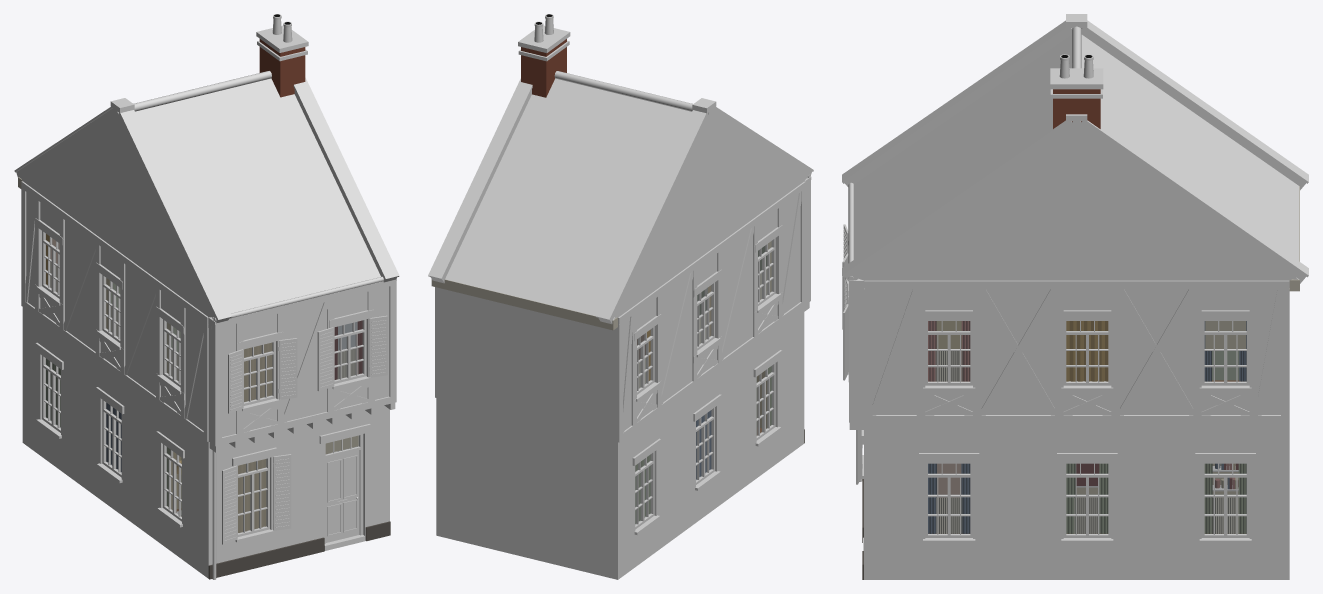
The model's file is GateStreet_BehindOuter2.glb.
The picture shows the model from 3 angles, left to right: view 1: azimuth 30°, elevation 25°; view 2: azimuth 150°, elevation 25°; view 3: azimuth 270°, elevation 25°; orthographic projection. The views are drawn at different scales.
Visible parts, largest first — view 1: GateStreet_BehindOuter2; view 2: GateStreet_BehindOuter2; view 3: GateStreet_BehindOuter2.
Boxes of the visible parts, left/top/right/bottom form: GateStreet_BehindOuter2: left=14, top=14, right=399, bottom=579; GateStreet_BehindOuter2: left=428, top=14, right=813, bottom=579; GateStreet_BehindOuter2: left=842, top=14, right=1308, bottom=579.
Bounding box in the file's own units: 4.64 × 10.69 × 8.78.
